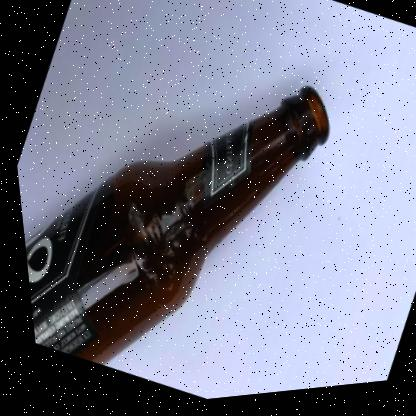Glass: (20, 92, 325, 362)
